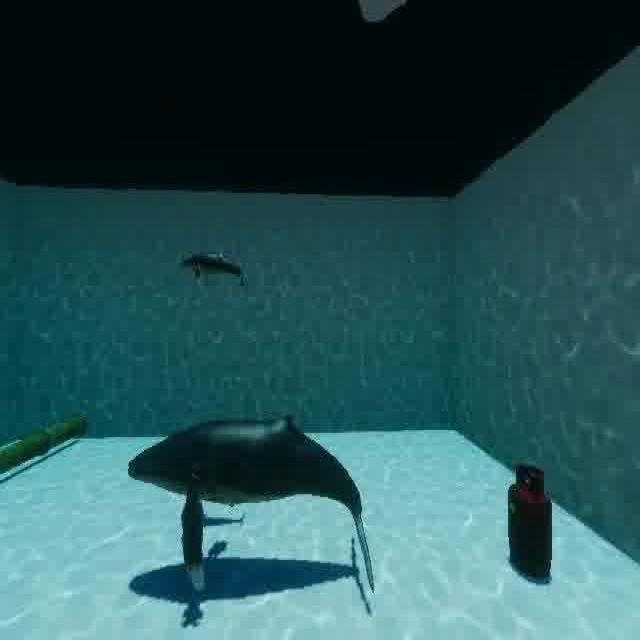Cylinder: (496, 447, 561, 589)
Pipe: (0, 403, 92, 479)
Whale: (122, 403, 385, 615), (178, 243, 257, 297)
